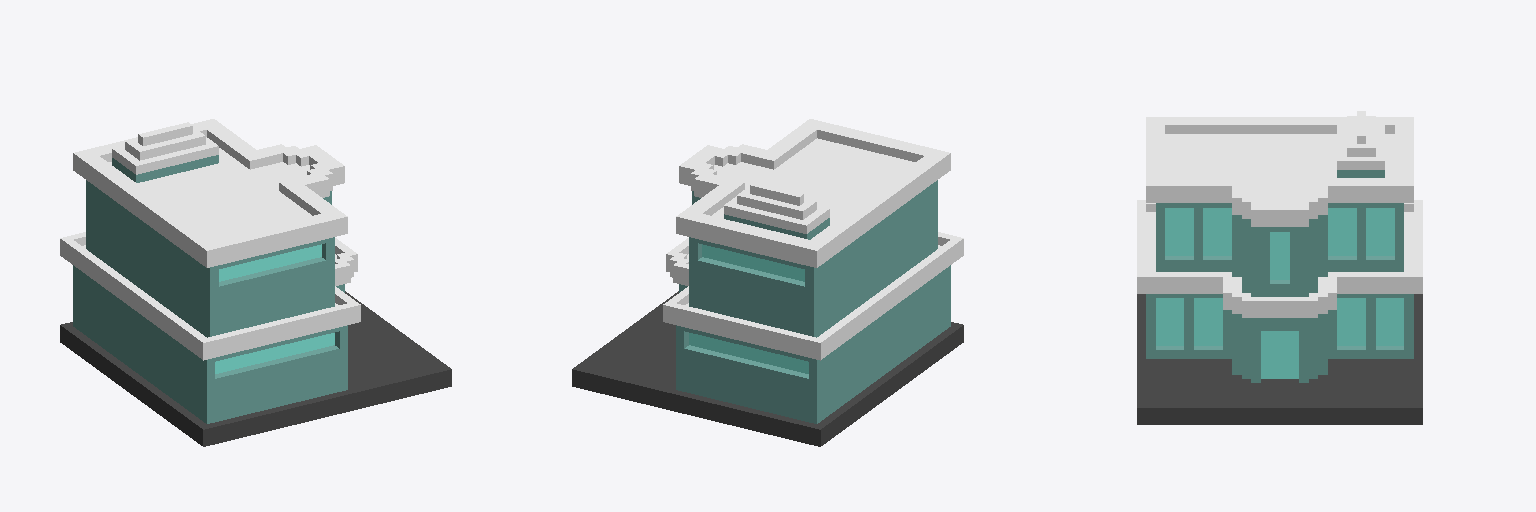
3 views of the same model, side by side, from view 1: azimuth 30°, elevation 25°; view 2: azimuth 150°, elevation 25°; view 3: azimuth 270°, elevation 25° (orthographic).
Bounding box in the file's own units: 30 × 25 × 30.
Materials: 1 (1 with a texture image).